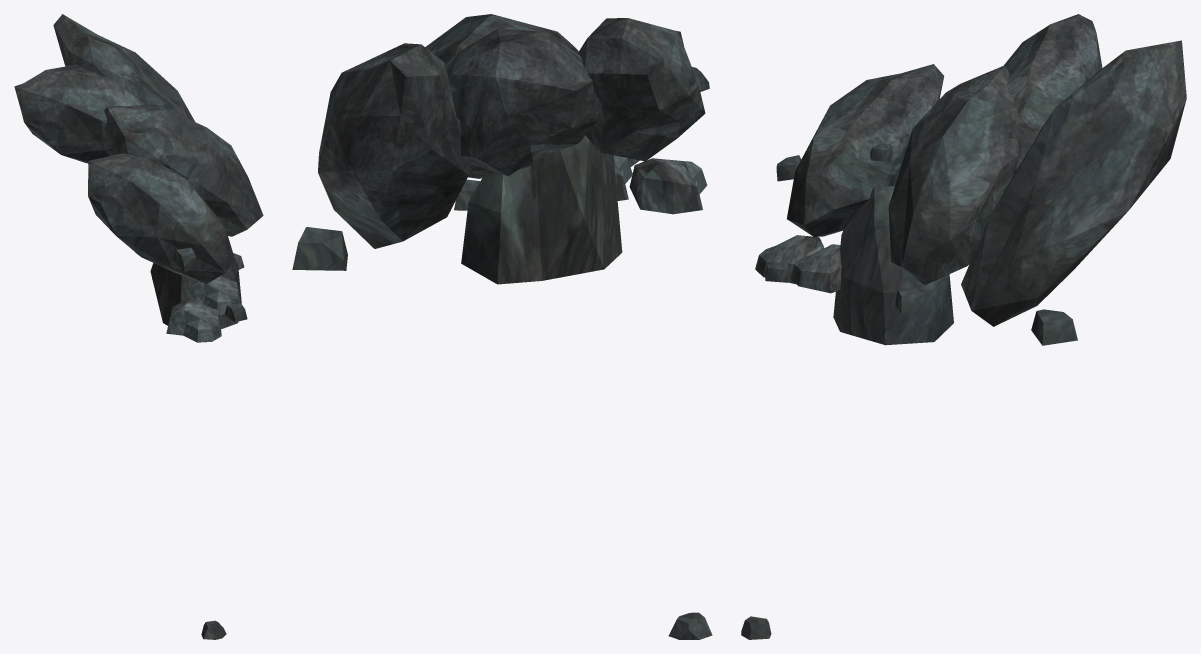
File: object_rubble11.fbx
The picture shows the model from 3 angles, left to right: view 1: azimuth 30°, elevation 25°; view 2: azimuth 150°, elevation 25°; view 3: azimuth 270°, elevation 25°; orthographic projection. The views are drawn at different scales.
Parts seen in each view (by area): view 1: obj1.022; view 2: obj1.022; view 3: obj1.022.
Boxes of the visible parts, left/top/right/bottom form: obj1.022: left=14, top=14, right=263, bottom=639; obj1.022: left=292, top=14, right=712, bottom=639; obj1.022: left=741, top=14, right=1186, bottom=639.
Size of the model in its own units: 6.5 by 15.04 by 10.03.
